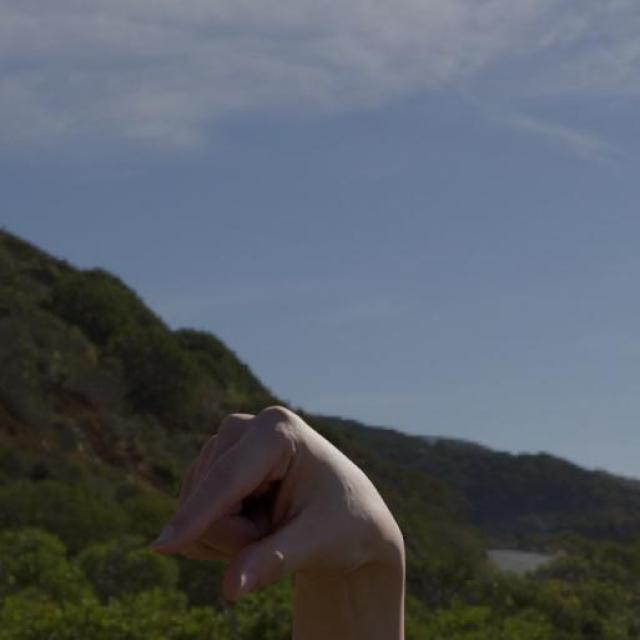Q: (146, 402, 410, 604)
